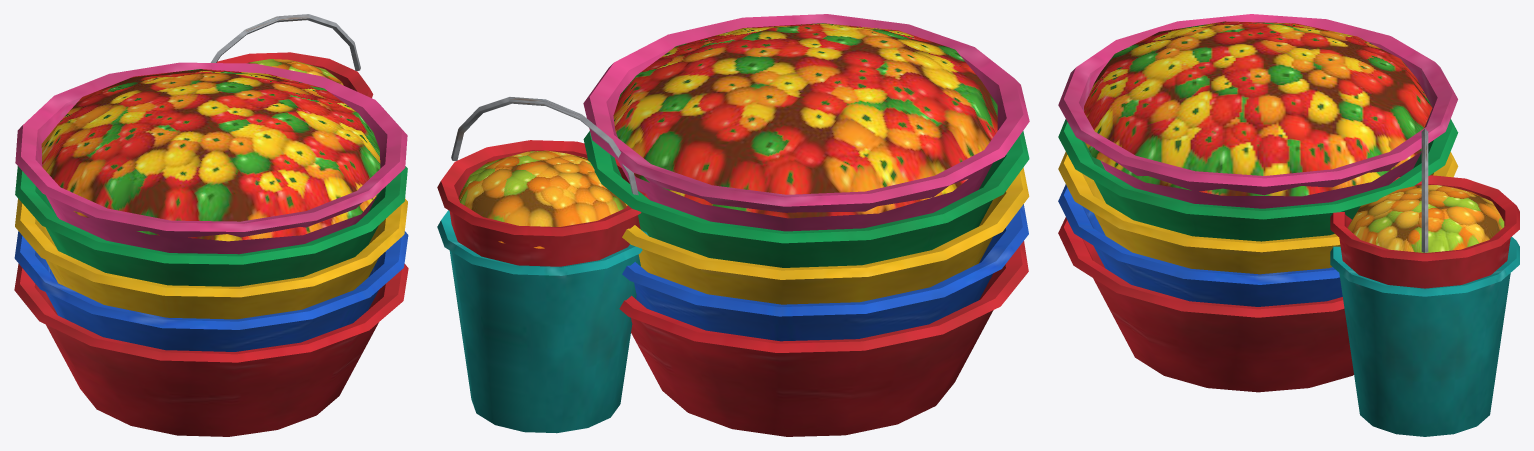
Rendered from mkt_soft_buckets.glb.
The picture shows the model from 3 angles, left to right: view 1: azimuth 30°, elevation 25°; view 2: azimuth 150°, elevation 25°; view 3: azimuth 270°, elevation 25°; orthographic projection. The views are drawn at different scales.
Visible parts, largest first — view 1: mkt_soft_buckets_body; view 2: mkt_soft_buckets_body; view 3: mkt_soft_buckets_body.
Boxes of the visible parts, x1=… form: mkt_soft_buckets_body: x1=14, y1=14, x2=408, y2=436; mkt_soft_buckets_body: x1=437, y1=14, x2=1029, y2=436; mkt_soft_buckets_body: x1=1058, y1=14, x2=1519, y2=436.
Bounding box in the file's own units: 0.8458 × 0.5637 × 0.8306.
1 material, 1 textured.
